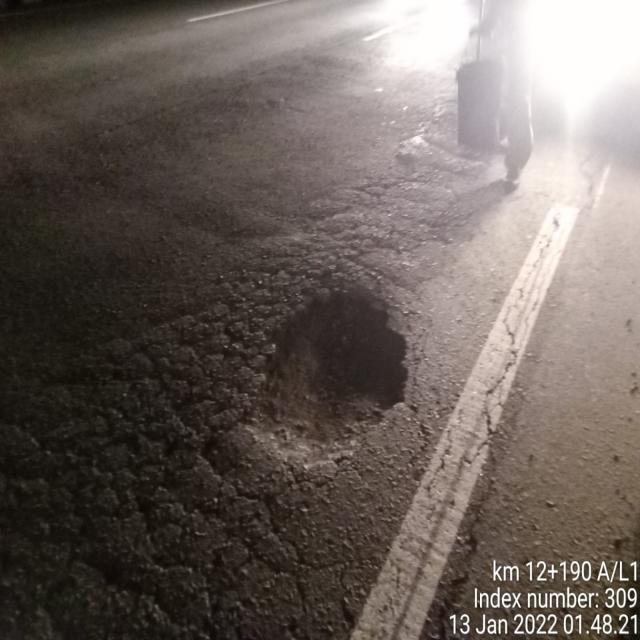Buraco: (231, 282, 413, 474)
